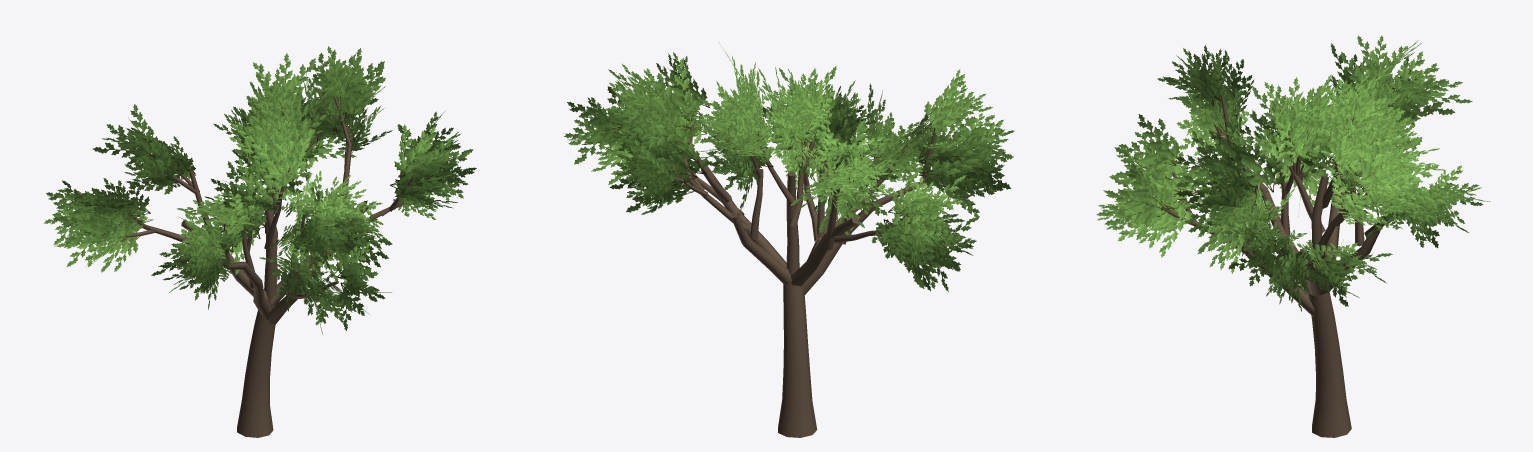
The model's file is oak_3.glb.
The picture shows the model from 3 angles, left to right: view 1: azimuth 30°, elevation 25°; view 2: azimuth 150°, elevation 25°; view 3: azimuth 270°, elevation 25°; orthographic projection. The views are drawn at different scales.
Visible parts, largest first — view 1: oak_3; view 2: oak_3; view 3: oak_3.
Part boxes in pixels (x1=…): oak_3: x1=44, y1=46, x2=476, y2=437; oak_3: x1=563, y1=43, x2=1014, y2=437; oak_3: x1=1096, y1=35, x2=1490, y2=437.
Bounding box in the file's own units: 11.83 × 9.61 × 9.64.
2 materials, 1 textured.
